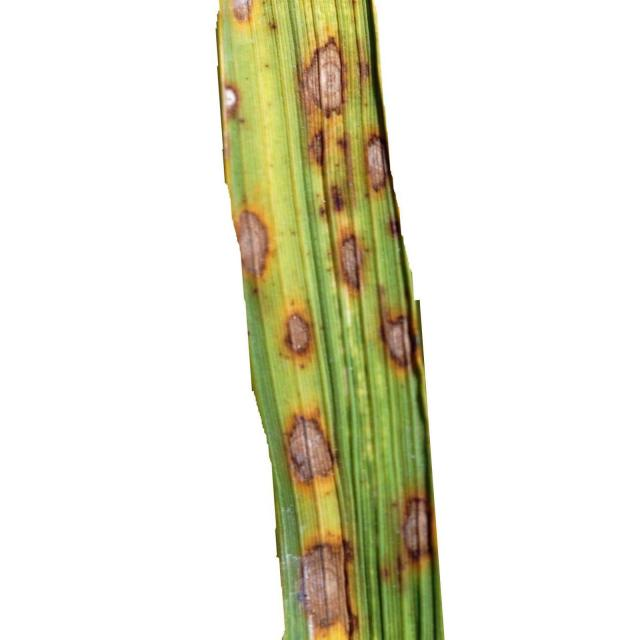Brown_Spot: (301, 544, 349, 627), (302, 39, 342, 112), (289, 416, 332, 482), (238, 211, 268, 275), (404, 498, 430, 559), (384, 316, 411, 366), (368, 136, 388, 190), (341, 236, 359, 289), (288, 314, 310, 352), (222, 85, 239, 116), (335, 131, 354, 156), (386, 211, 401, 239), (232, 0, 252, 20), (312, 132, 324, 164), (330, 185, 344, 211), (318, 200, 328, 218)
